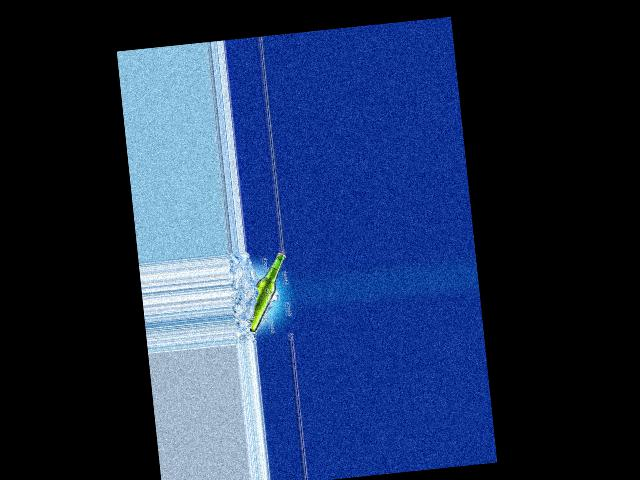beer: (241, 250, 293, 332)
